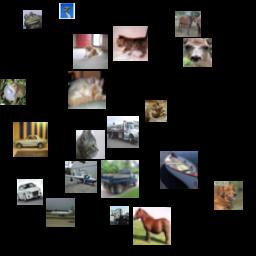airplane: (65, 161, 97, 193), (46, 198, 75, 227)
automobile: (13, 122, 48, 157), (17, 179, 43, 205)
bird: (59, 3, 75, 19)
cat: (68, 71, 106, 109), (113, 26, 148, 61), (76, 130, 105, 159)
deer: (183, 38, 212, 67)
dog: (73, 34, 108, 69), (214, 181, 243, 210)
frog: (0, 79, 26, 105), (145, 100, 167, 122), (23, 10, 42, 29)
ship: (160, 151, 198, 189)
truck: (101, 160, 139, 198), (107, 116, 139, 148), (110, 206, 129, 225)
